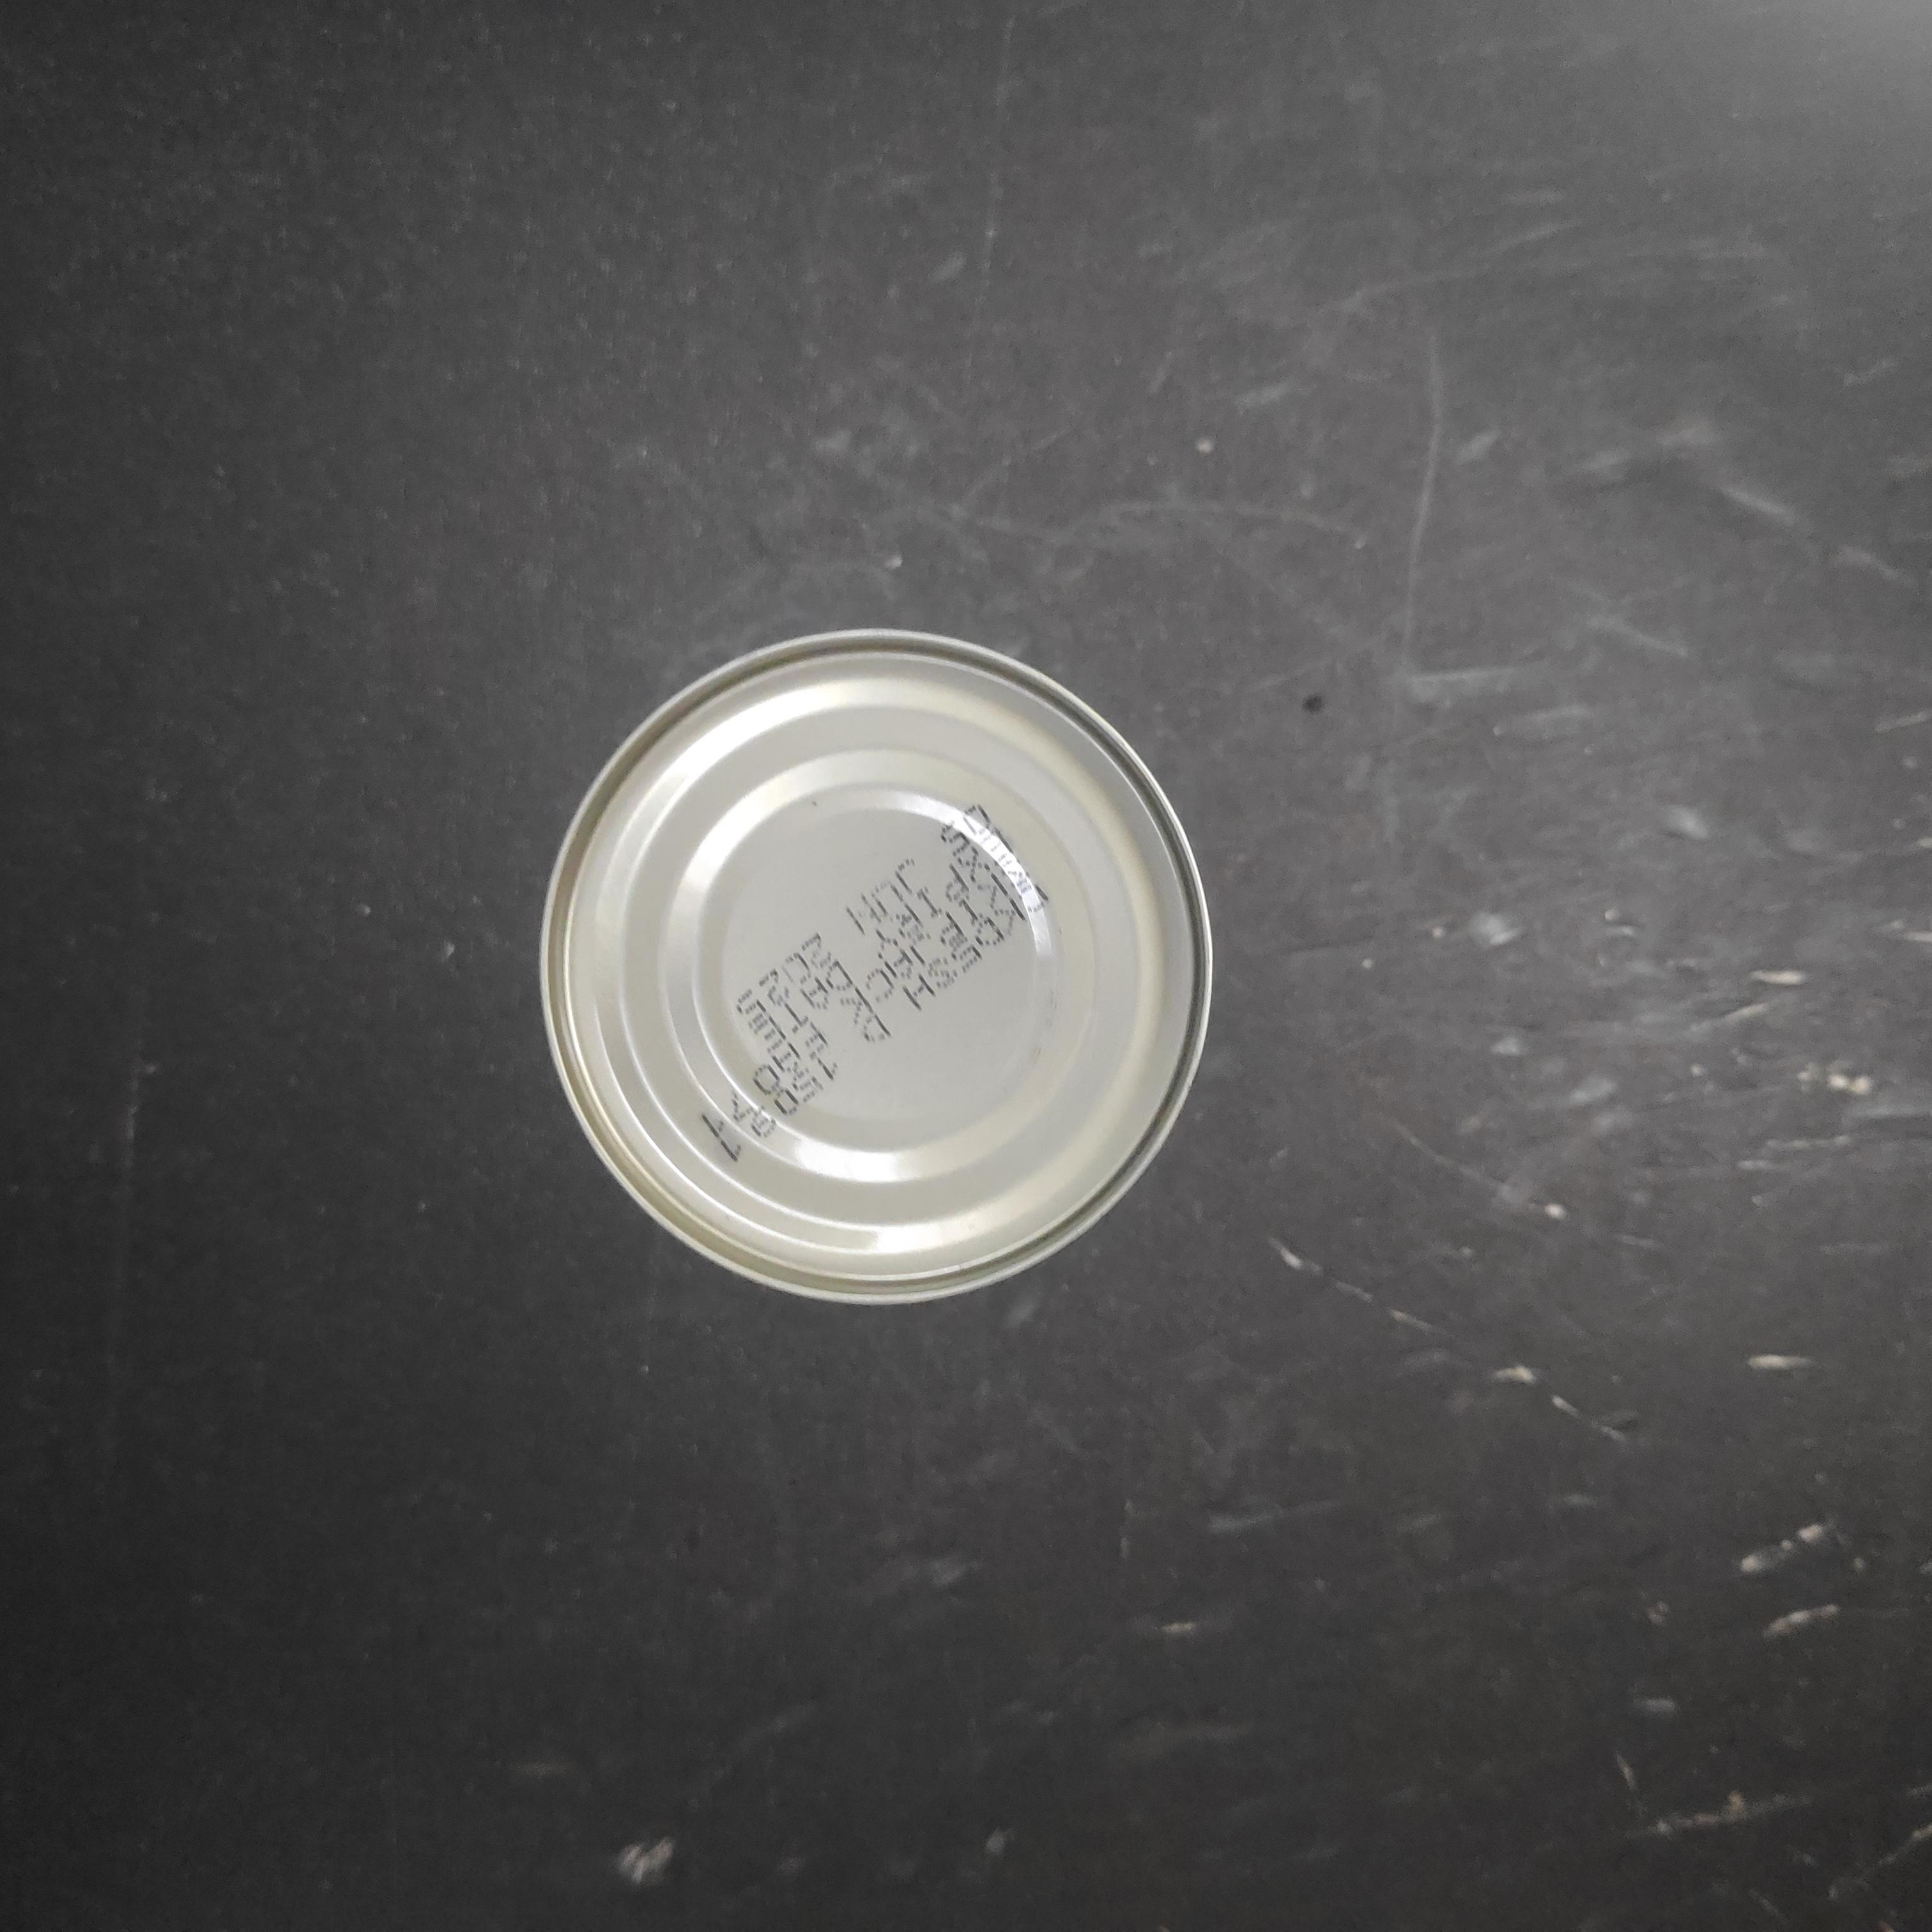No defect: (713, 625, 1399, 1304)
